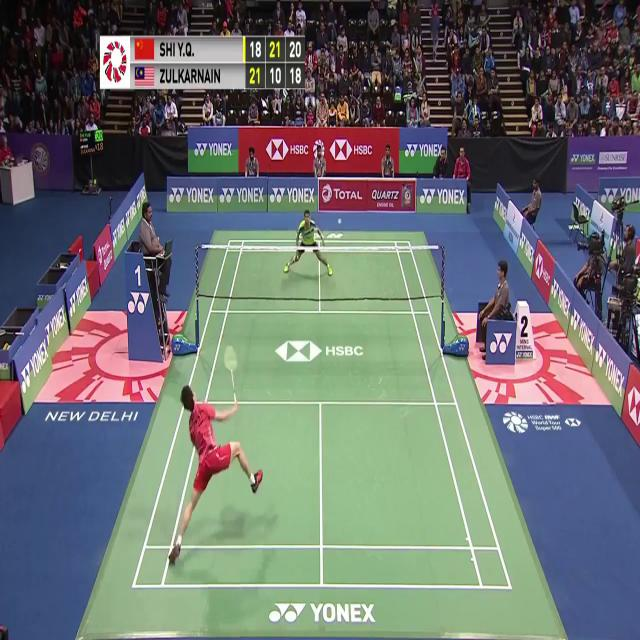Shuttlecock: (337, 216, 343, 227)
